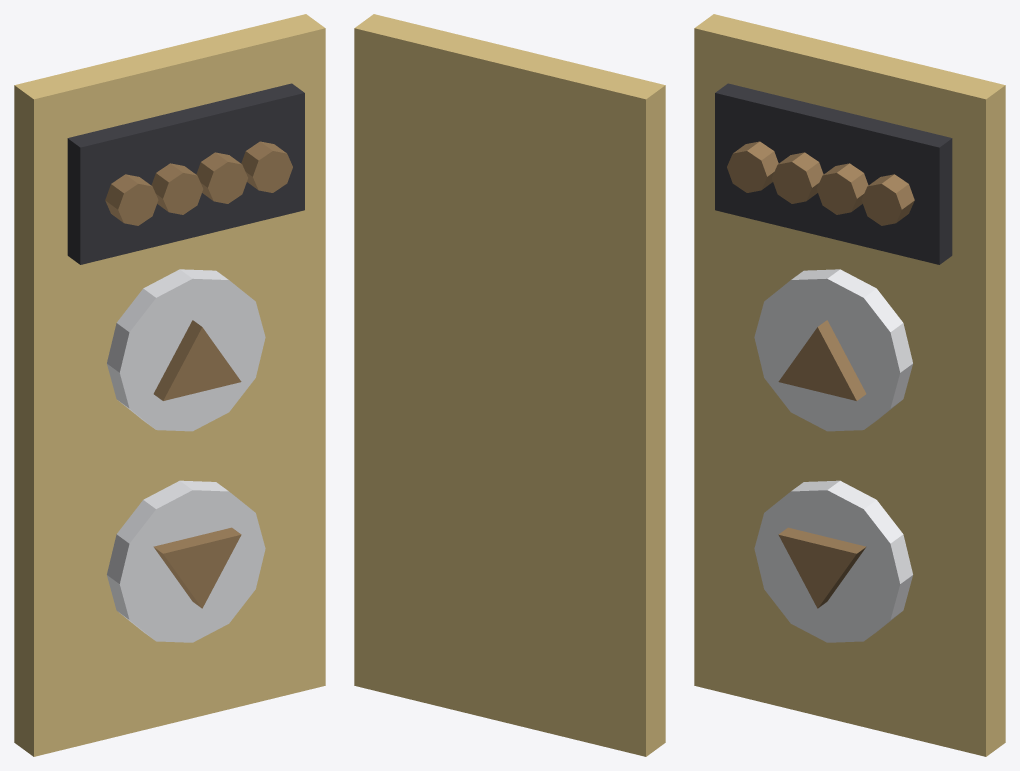
Rendered from HJ_Botonera.fbx.
3 views of the same model, side by side, from view 1: azimuth 30°, elevation 25°; view 2: azimuth 150°, elevation 25°; view 3: azimuth 330°, elevation 25° (orthographic).
Parts seen in each view (by area): view 1: HJ_Botonera; view 2: HJ_Botonera; view 3: HJ_Botonera.
Boxes of the visible parts, left/top/right/bottom form: HJ_Botonera: left=14, top=14, right=325, bottom=756; HJ_Botonera: left=354, top=14, right=665, bottom=756; HJ_Botonera: left=694, top=14, right=1005, bottom=756.
Size of the model in its own units: 0.26 by 0.56 by 0.07.
